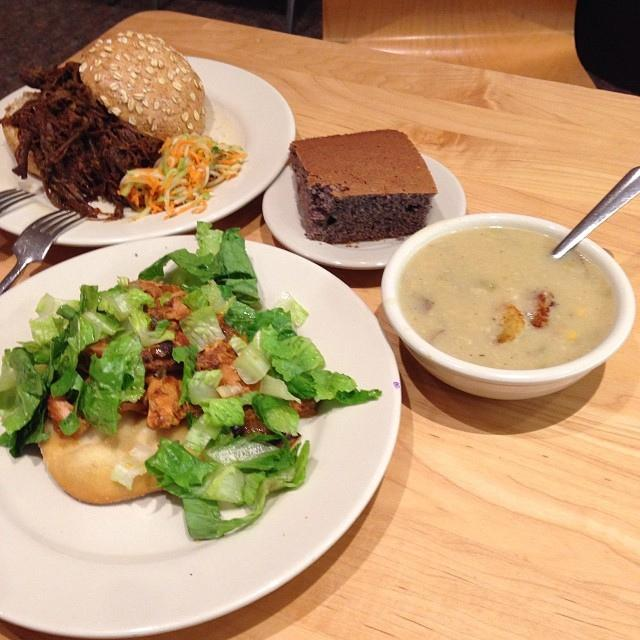lettuce: (172, 344, 260, 458), (144, 438, 266, 508), (49, 352, 128, 436), (260, 322, 326, 382), (214, 227, 262, 306), (182, 498, 263, 540), (1, 394, 50, 458), (139, 248, 222, 282), (65, 309, 127, 352), (179, 304, 226, 352), (232, 328, 272, 384), (252, 392, 301, 437), (98, 286, 157, 322), (40, 323, 70, 388), (264, 415, 297, 472), (10, 348, 44, 396), (310, 368, 358, 402), (180, 283, 236, 312), (260, 374, 302, 406), (80, 284, 98, 316)
